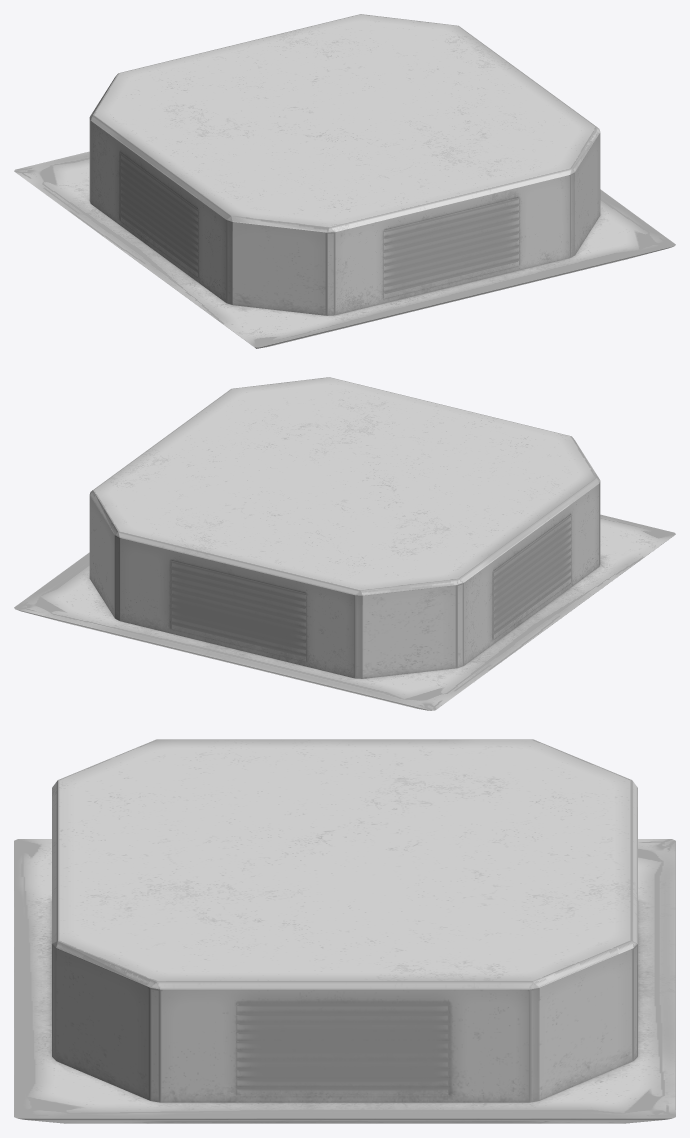
File: Aircon.FBX
The picture shows the model from 3 angles, top to bottom: view 1: azimuth 30°, elevation 25°; view 2: azimuth 150°, elevation 25°; view 3: azimuth 270°, elevation 25°; orthographic projection. The views are drawn at different scales.
Visible parts, largest first — view 1: Aircon_Lo; view 2: Aircon_Lo; view 3: Aircon_Lo.
Part boxes in pixels (<box>): Aircon_Lo: <box>14,14,675,348</box>; Aircon_Lo: <box>14,377,675,710</box>; Aircon_Lo: <box>14,739,675,1123</box>.
Size of the model in its own units: 0.9456 by 0.2284 by 0.9456.
Materials: 1 (1 with a texture image).
